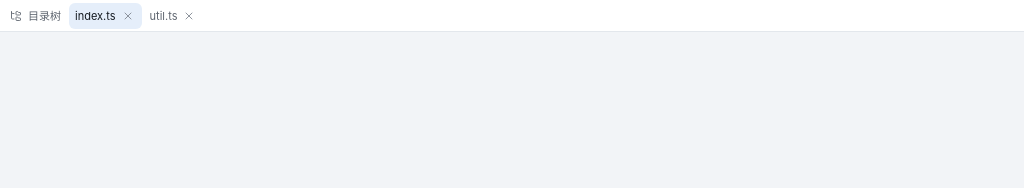
Test: DiffTabStrip 右键菜单（蓝图 §2.2） › 关闭三项之外还有复制路径与在 Finder 中显示
Right-click the tab "index.ts": (95, 16) [75,8,116,24]
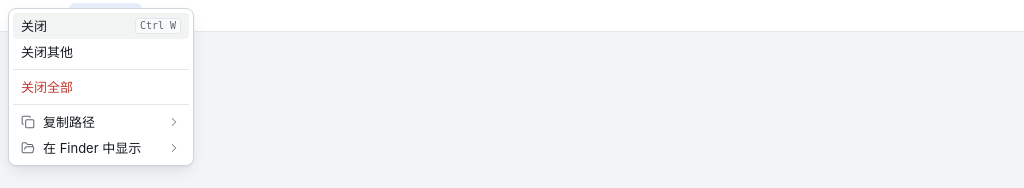
Check: the menu is shown, box [13,13,189,161]
Check: the menu item "关闭 Ctrl W" is shown, box [13,13,189,39]
Check: the menu item "关闭其他" is shown, box [13,39,189,65]
